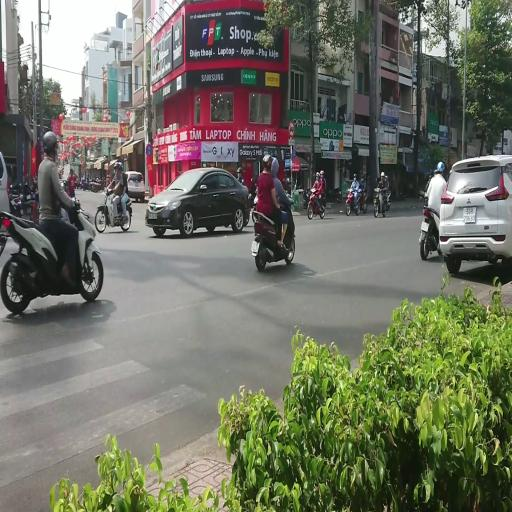bikes: (0, 196, 103, 314), (250, 190, 296, 270), (0, 180, 38, 256), (94, 185, 132, 233), (418, 188, 443, 260), (8, 181, 38, 220), (8, 181, 24, 218), (307, 189, 325, 219), (345, 186, 361, 216), (373, 185, 388, 217), (356, 179, 368, 214), (89, 176, 106, 192), (303, 187, 311, 208), (383, 190, 391, 210), (337, 189, 342, 202)
helmet: (42, 131, 58, 152), (270, 157, 280, 177), (262, 154, 272, 168), (436, 160, 445, 172), (114, 162, 122, 170), (118, 162, 124, 170), (360, 178, 366, 185), (315, 172, 320, 179), (237, 167, 242, 173), (286, 178, 290, 184), (114, 162, 118, 168), (320, 170, 324, 175), (380, 172, 384, 177), (70, 168, 74, 173), (384, 175, 388, 180), (81, 176, 85, 181), (361, 176, 365, 181), (107, 174, 110, 178), (354, 173, 356, 178)
